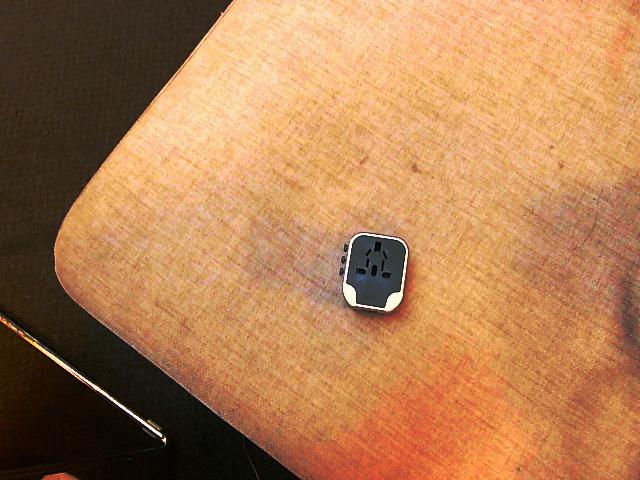adapter: (339, 230, 409, 314)
